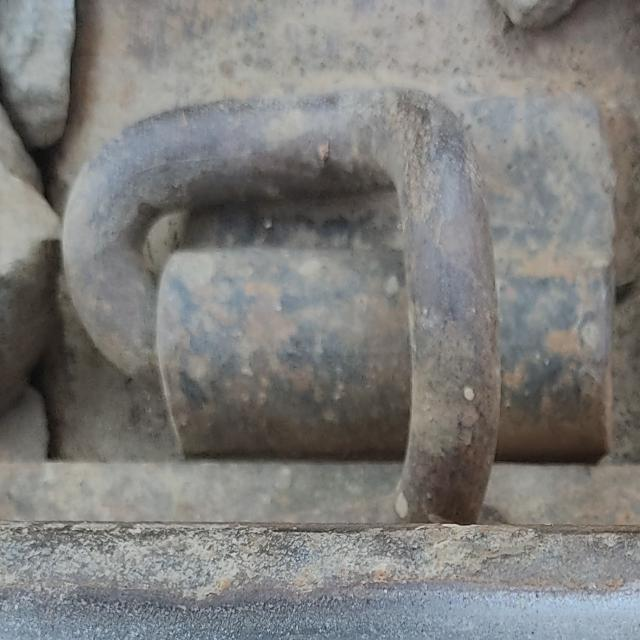track_bolt: (54, 78, 504, 526)
